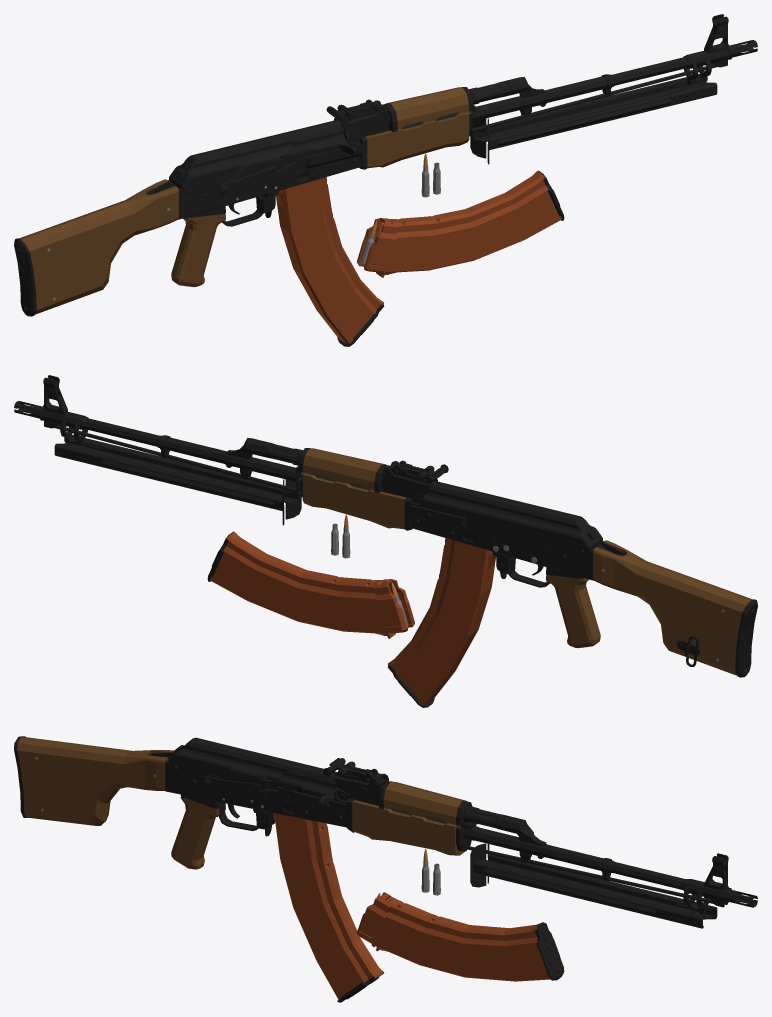
The model's file is low-poly_rpk-74.glb.
3 views of the same model, one above another, from view 1: azimuth 30°, elevation 25°; view 2: azimuth 150°, elevation 25°; view 3: azimuth 330°, elevation 25° (orthographic).
Visible parts, largest first — view 1: ak74 45rnd bakelite mag_15, rpk74 stock_1, ak74 45rnd empty bakelite mag_14, rpk74 receiver_3, rpk74 barrel_19, rpk74 handguard_6, rpk74 dust cover_7, rpk74 bipod R leg_12, rpk74 grip_4, rpk74 bipod L leg_13, rpk74 bolt_8, rpk74 selector_2 (+1 smaller); view 2: ak74 45rnd bakelite mag_15, rpk74 stock_1, ak74 45rnd empty bakelite mag_14, rpk74 receiver_3, rpk74 barrel_19, rpk74 handguard_6, rpk74 dust cover_7, rpk74 bipod L leg_13, rpk74 grip_4, rpk74 bipod R leg_12, rpk74 bipod base_10; view 3: ak74 45rnd bakelite mag_15, rpk74 stock_1, ak74 45rnd empty bakelite mag_14, rpk74 receiver_3, rpk74 barrel_19, rpk74 handguard_6, rpk74 bipod R leg_12, rpk74 dust cover_7, rpk74 grip_4, rpk74 bipod L leg_13, rpk74 bolt_8, rpk74 selector_2 (+2 smaller).
Part boxes in pixels (x1,y1,x2,y2): ak74 45rnd bakelite mag_15: [357, 170, 564, 277]; rpk74 stock_1: [14, 179, 178, 316]; ak74 45rnd empty bakelite mag_14: [275, 177, 384, 346]; rpk74 receiver_3: [146, 81, 510, 226]; rpk74 barrel_19: [365, 14, 729, 136]; rpk74 handguard_6: [359, 87, 471, 169]; rpk74 dust cover_7: [169, 120, 341, 189]; rpk74 bipod R leg_12: [487, 82, 717, 164]; rpk74 grip_4: [171, 206, 225, 287]; rpk74 bipod L leg_13: [470, 74, 700, 158]; rpk74 bolt_8: [281, 87, 510, 159]; rpk74 selector_2: [215, 155, 296, 196]; ak74 45rnd bakelite mag_15: [207, 531, 414, 638]; rpk74 stock_1: [593, 540, 757, 677]; ak74 45rnd empty bakelite mag_14: [387, 538, 496, 707]; rpk74 receiver_3: [261, 442, 625, 587]; rpk74 barrel_19: [42, 375, 406, 497]; rpk74 handguard_6: [300, 448, 412, 530]; rpk74 dust cover_7: [424, 481, 602, 550]; rpk74 bipod L leg_13: [54, 443, 284, 525]; rpk74 grip_4: [546, 567, 600, 648]; rpk74 bipod R leg_12: [71, 435, 301, 519]; rpk74 bipod base_10: [60, 412, 87, 446]; ak74 45rnd bakelite mag_15: [357, 892, 564, 981]; rpk74 stock_1: [14, 736, 175, 825]; ak74 45rnd empty bakelite mag_14: [273, 813, 383, 1002]; rpk74 receiver_3: [147, 745, 508, 830]; rpk74 barrel_19: [355, 800, 735, 907]; rpk74 handguard_6: [346, 781, 466, 855]; rpk74 bipod R leg_12: [470, 843, 703, 928]; rpk74 dust cover_7: [169, 737, 337, 781]; rpk74 grip_4: [171, 794, 225, 869]; rpk74 bipod L leg_13: [487, 844, 717, 919]; rpk74 bolt_8: [268, 770, 504, 824]; rpk74 selector_2: [201, 771, 278, 792].
Size of the model in its own units: 10.47 by 3.21 by 0.6558.
